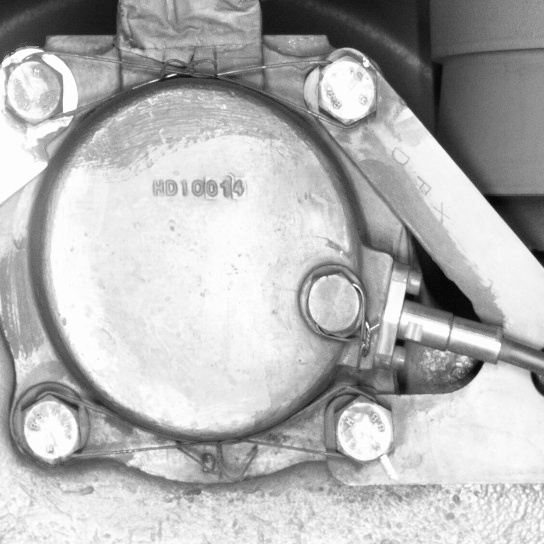IronWire: (13, 383, 400, 471), (0, 51, 387, 134)
Screw: (12, 383, 87, 472), (305, 50, 386, 132), (328, 387, 399, 470), (0, 51, 69, 132), (299, 264, 366, 343)
